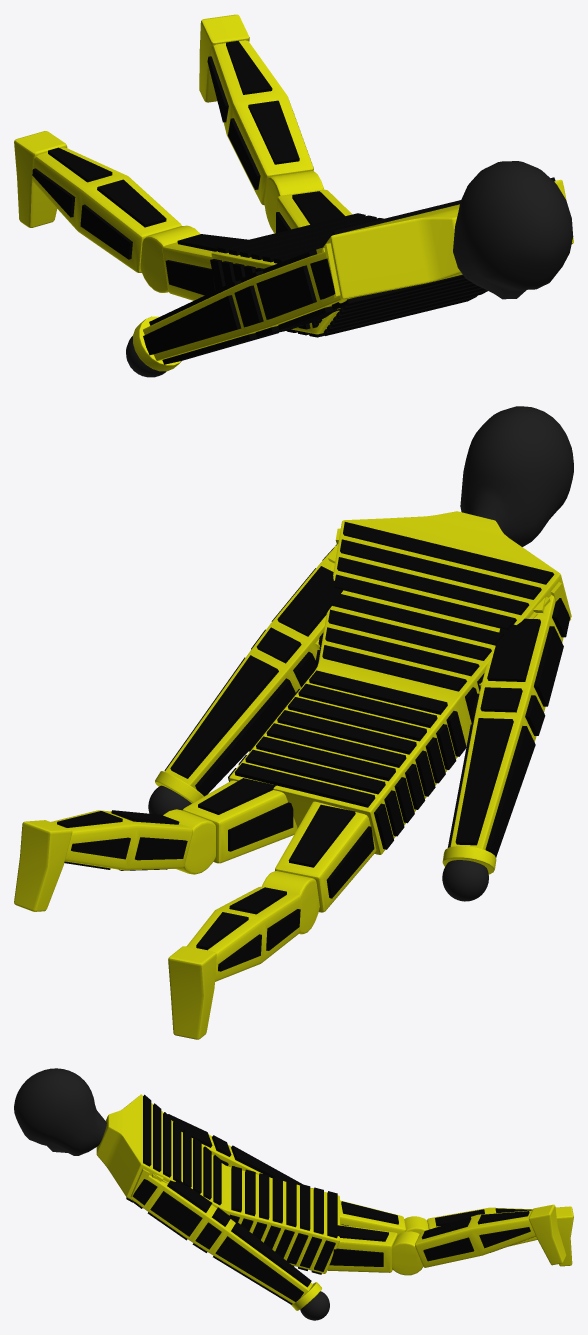
The model's file is Following_Enemy.fbx.
3 views of the same model, one above another, from view 1: azimuth 30°, elevation 25°; view 2: azimuth 150°, elevation 25°; view 3: azimuth 270°, elevation 25° (orthographic). The views are drawn at different scales.
Visible parts, largest first — view 1: Following_Enemy; view 2: Following_Enemy; view 3: Following_Enemy.
Part boxes in pixels (left/top/right/bottom): Following_Enemy: left=14, top=14, right=573, bottom=377; Following_Enemy: left=14, top=406, right=573, bottom=1039; Following_Enemy: left=14, top=1068, right=573, bottom=1320.
Bounding box in the file's own units: 0.7201 × 0.6624 × 1.59.
